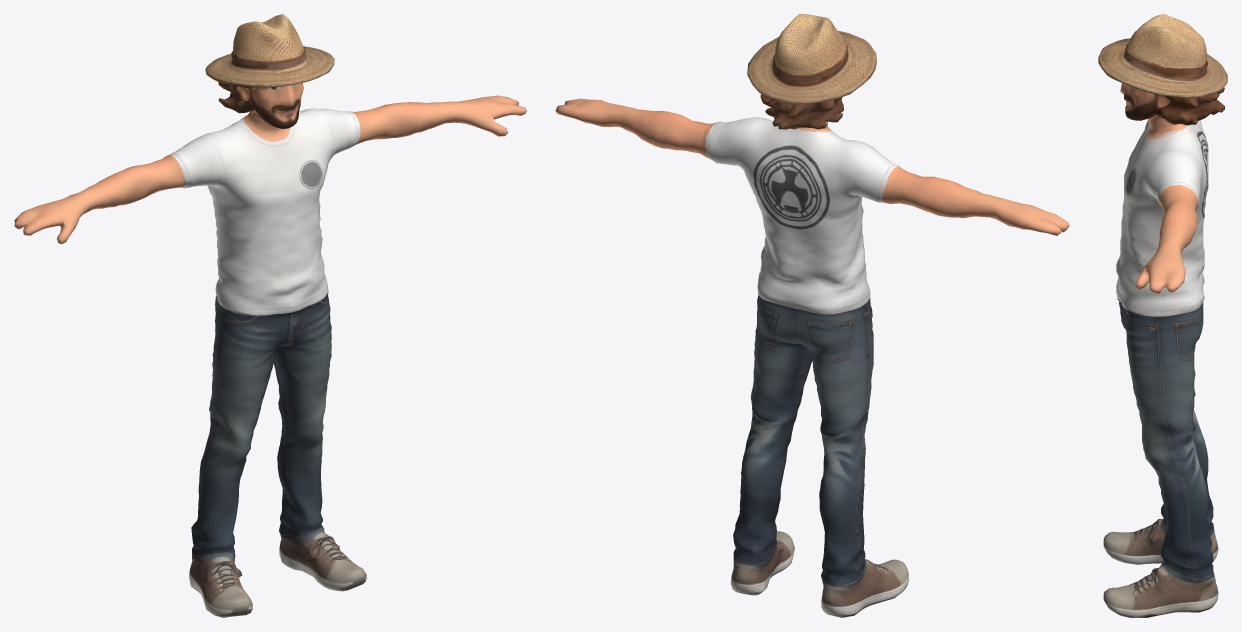
Rendered from Meshy_AI_Straw_Hat_Wanderer_20260504_texture.fbx.
The picture shows the model from 3 angles, left to right: view 1: azimuth 30°, elevation 25°; view 2: azimuth 150°, elevation 25°; view 3: azimuth 270°, elevation 25°; orthographic projection.
Parts seen in each view (by area): view 1: Mesh_0; view 2: Mesh_0; view 3: Mesh_0.
Boxes of the visible parts, box(x1,y1,x2,y2) form: Mesh_0: box(14, 14, 526, 617); Mesh_0: box(555, 14, 1069, 617); Mesh_0: box(1098, 14, 1227, 617).
Size of the model in its own units: 177 by 191 by 39.53.
Materials: 1 (1 with a texture image).
